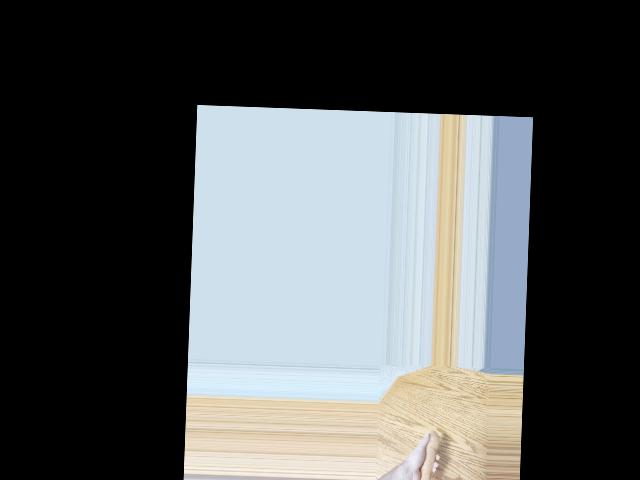sweet_potato: (411, 430, 440, 480)
